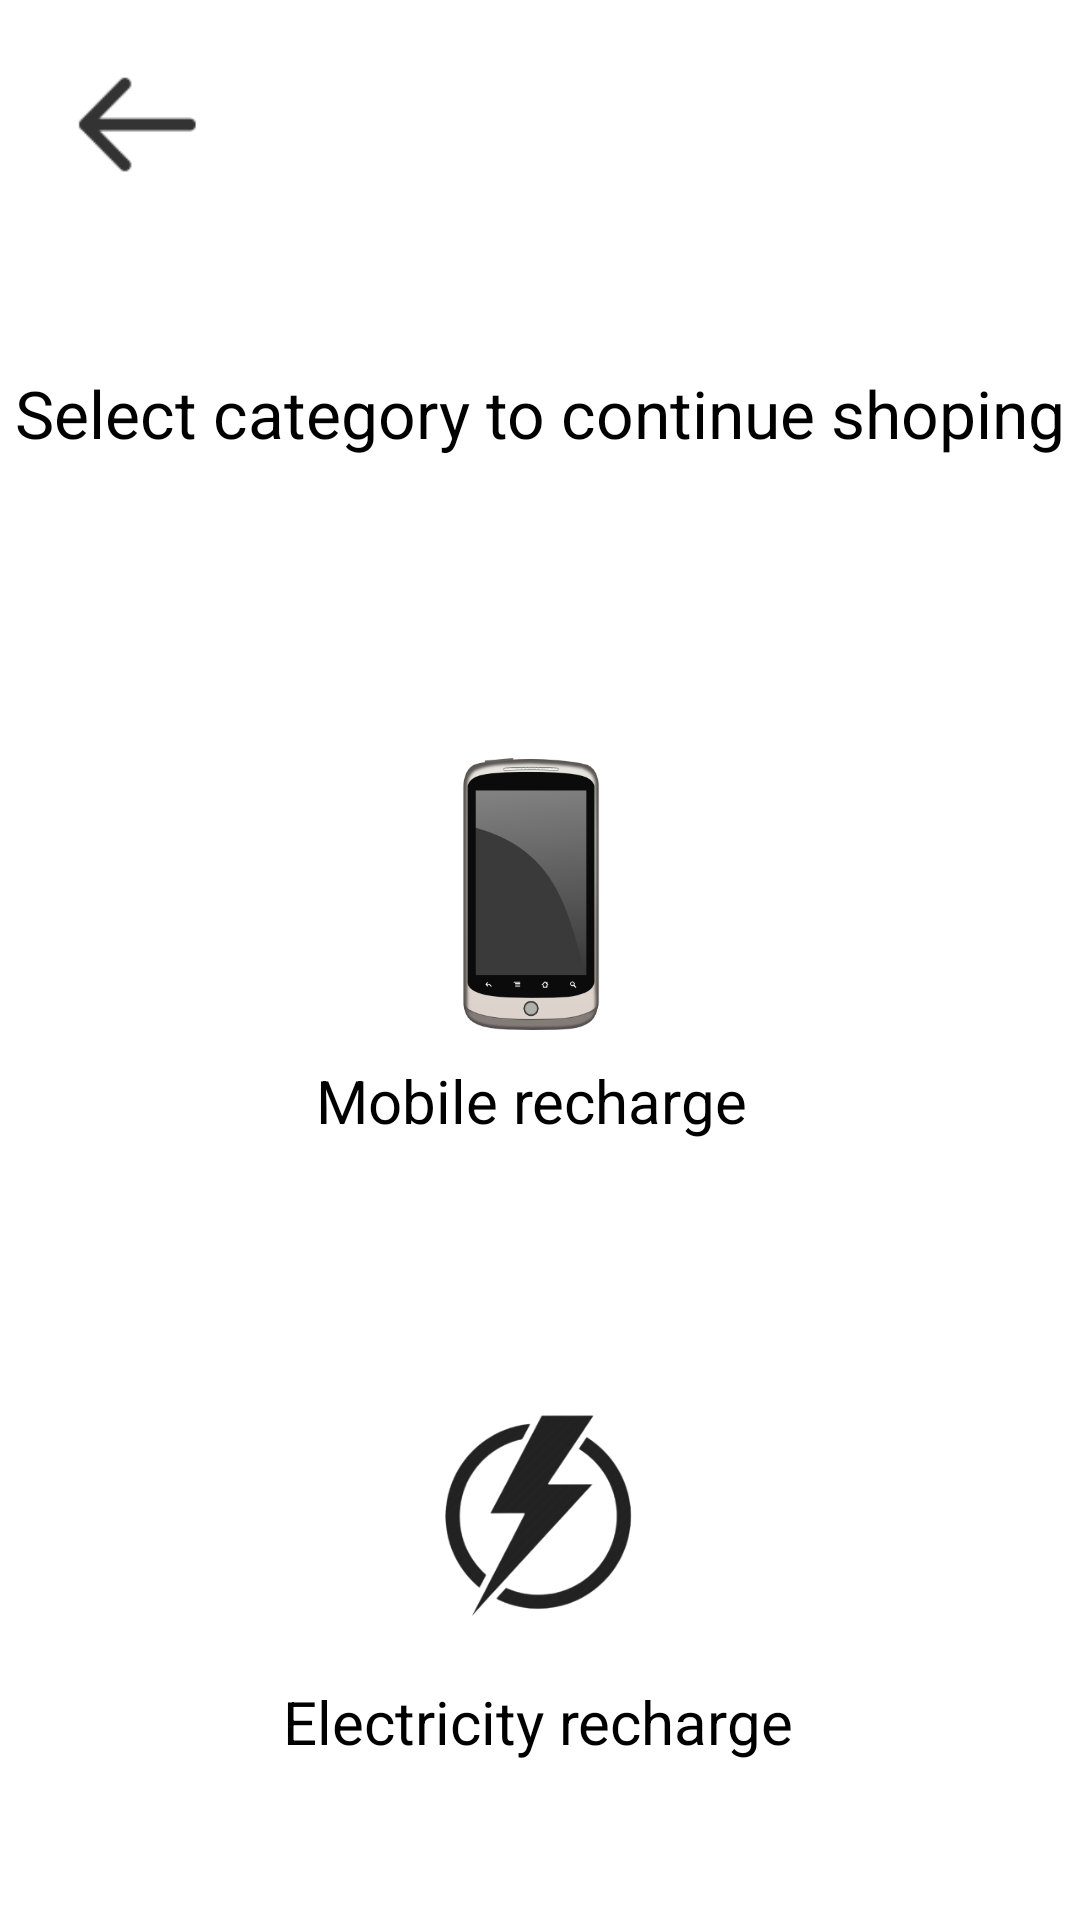

Icon bounding boxes for this 1080×1920 phone screenshot, format (x1, y1, x2, y2):
back arrow: (78, 77, 196, 172)
phone: (463, 758, 599, 1030)
